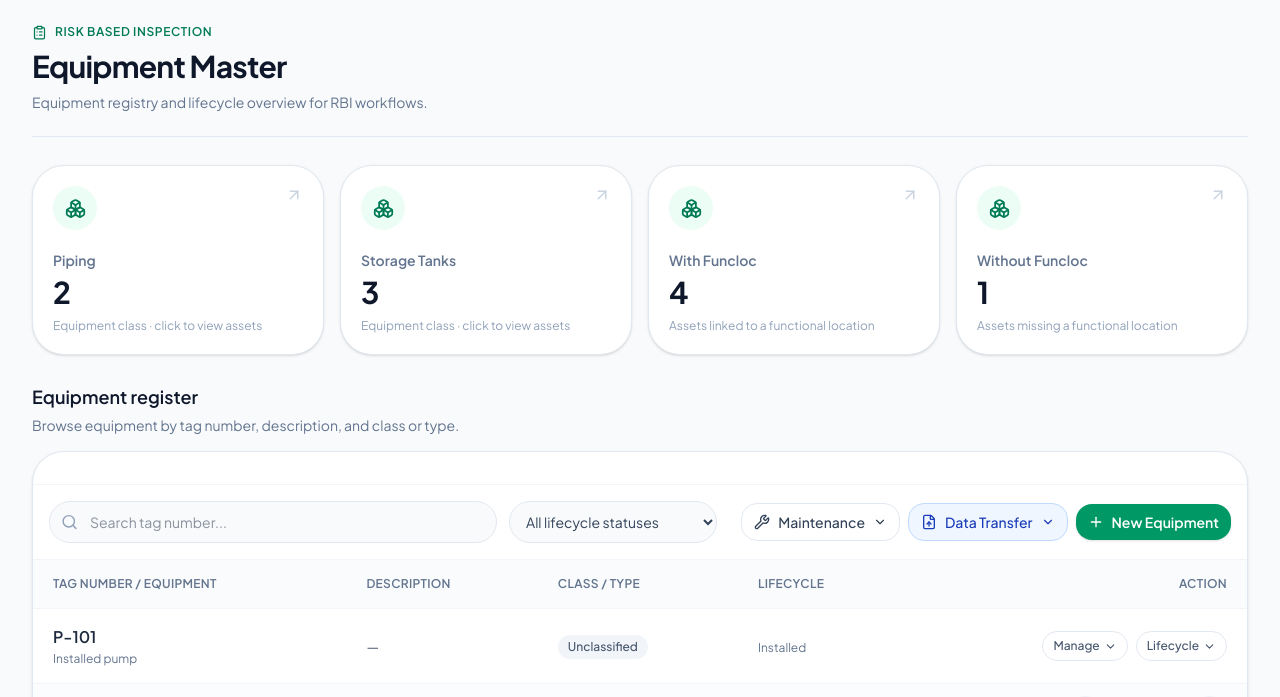
Test case: EquipmentMasterPage API integration › loads stats and fetches the matching equipment class when a stat card is clicked
The width and height of the screenshot is (1280, 697).
Click the button with aria-label "Piping: 2". click: x=75, y=208
box: left=32, top=165, right=324, bottom=355
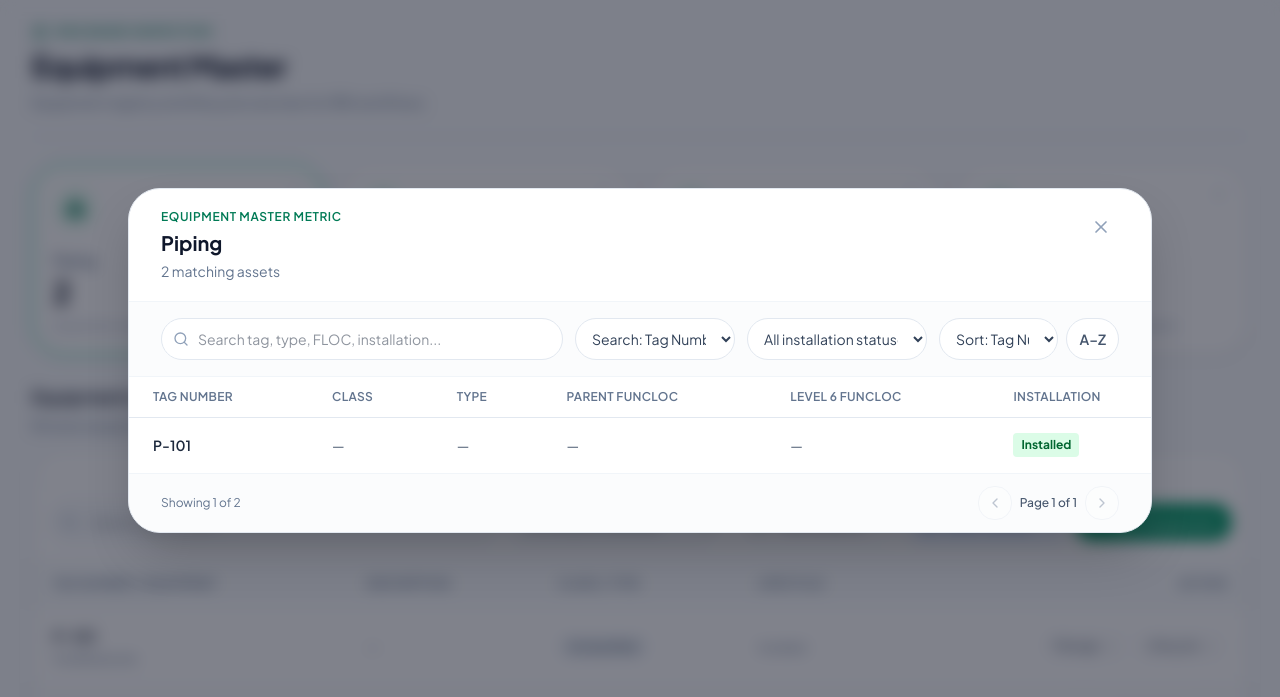
Check: the dialog is shown, box left=128, top=188, right=1152, bottom=532
